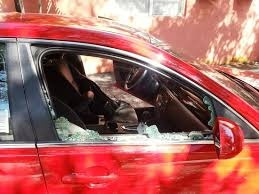Broken-glass: (30, 45, 216, 146)
